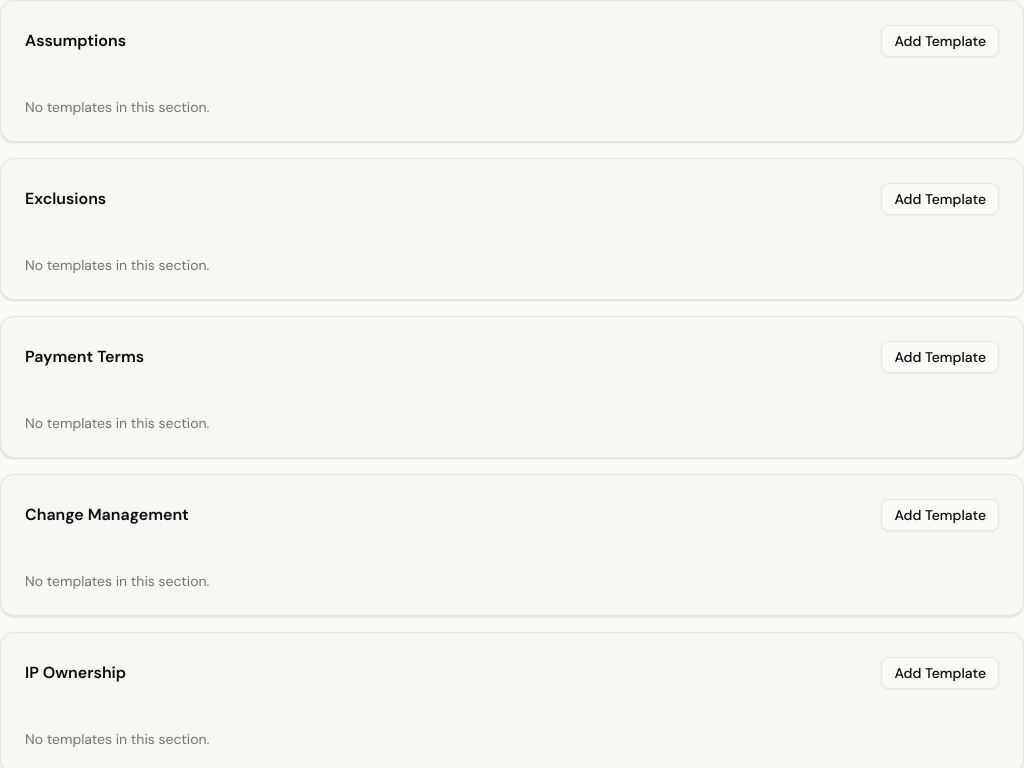
Test: ProposalTemplateLibrary › Dialog interaction › opens add dialog when "Add Template" button is clicked (admin)
The image size is (1024, 768).
Click the button "Add Template" in the row of "Assumptions".
click(940, 41)  # box [882,25,999,57]
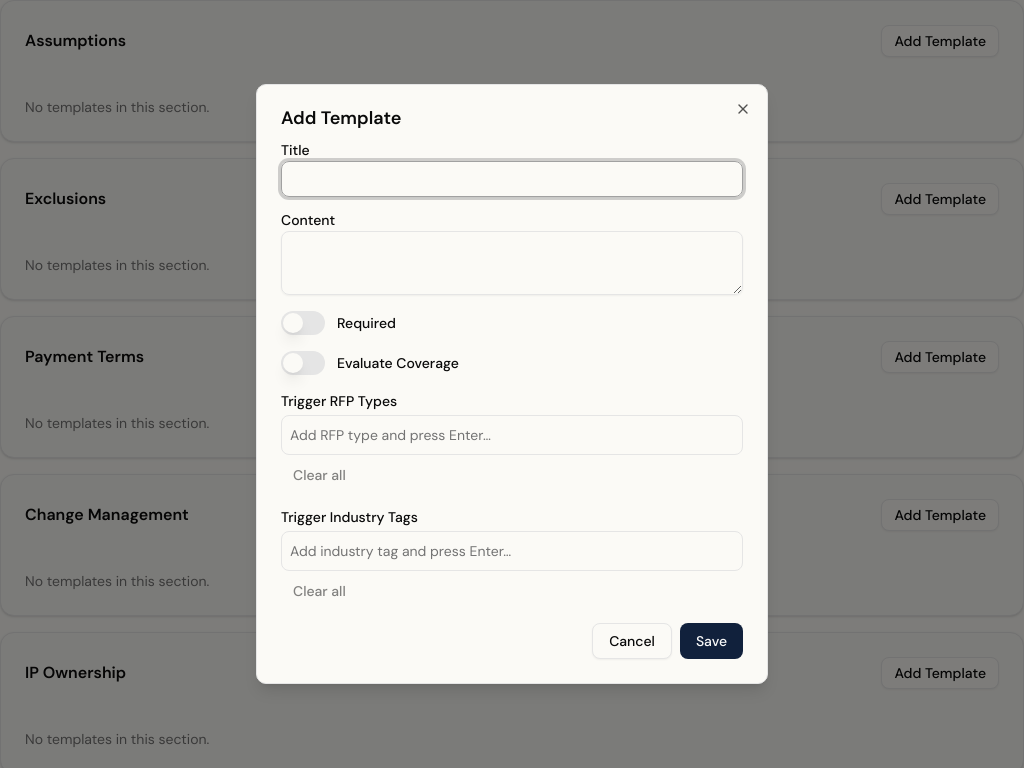
expect the dialog is shown: met, box [256,84,768,684]
